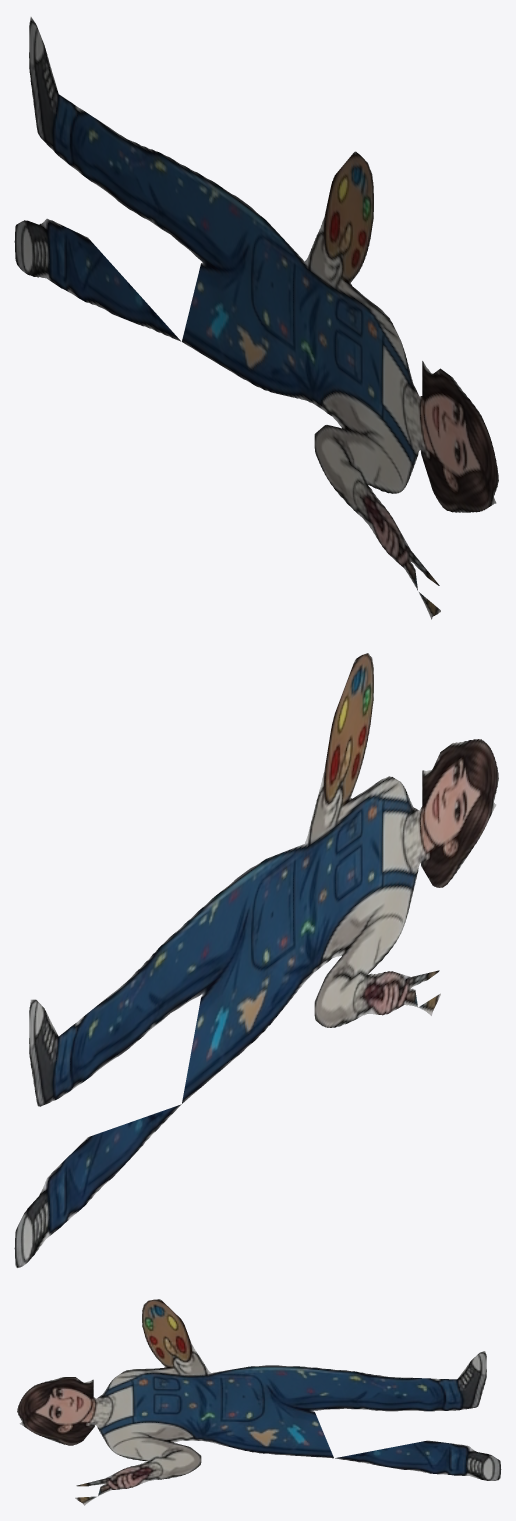
Rendered from person.obj.
3 renders of one model, top to bottom at view 1: azimuth 30°, elevation 25°; view 2: azimuth 150°, elevation 25°; view 3: azimuth 270°, elevation 25°, orthographic. The views are drawn at different scales.
Parts seen in each view (by area): view 1: person_cutout; view 2: person_cutout; view 3: person_cutout.
Part boxes in pixels (<box>): person_cutout: <box>14,17,498,619</box>; person_cutout: <box>14,653,498,1267</box>; person_cutout: <box>17,1299,501,1505</box>.
Size of the model in its own units: 0 by 0.0703 by 0.15.
